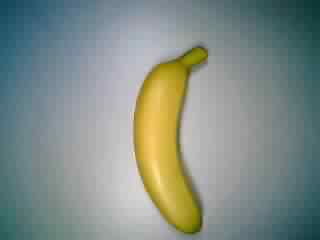banana: (129, 44, 213, 234)
